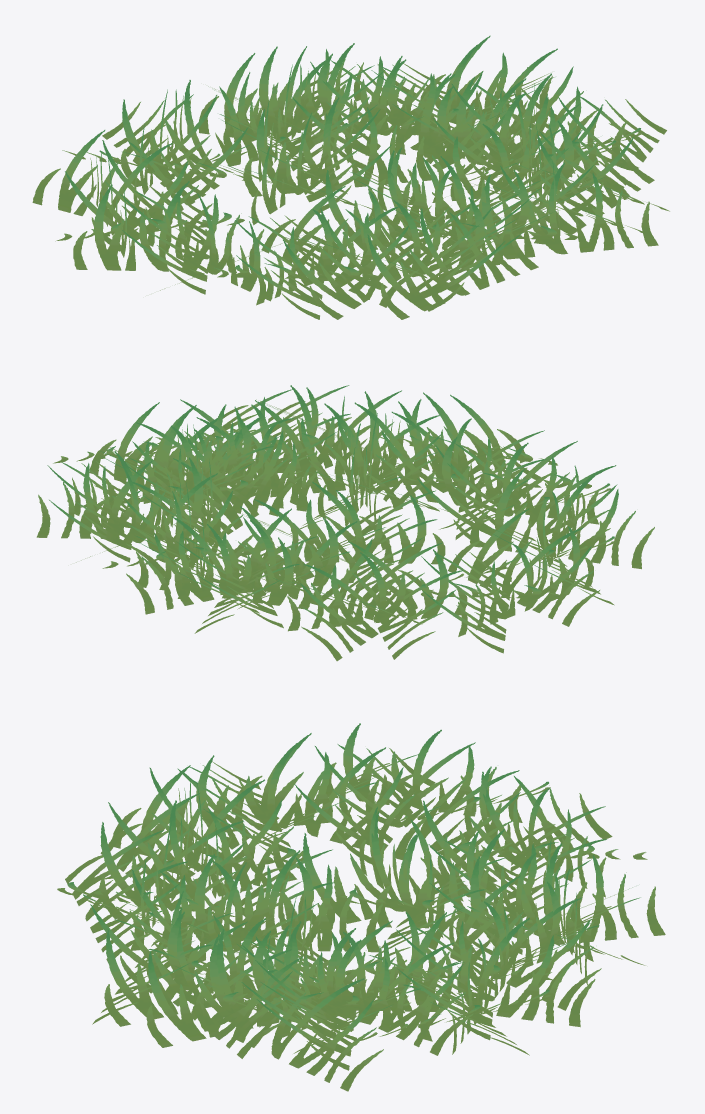
File: V_Grass13.fbx
3 views of the same model, one above another, from view 1: azimuth 30°, elevation 25°; view 2: azimuth 150°, elevation 25°; view 3: azimuth 270°, elevation 25° (orthographic). The views are drawn at different scales.
Parts seen in each view (by area): view 1: TW101_grass04; view 2: TW101_grass04; view 3: TW101_grass04.
Boxes of the visible parts, bbox=[...] form: TW101_grass04: bbox=[32, 35, 669, 319]; TW101_grass04: bbox=[36, 385, 654, 661]; TW101_grass04: bbox=[57, 723, 665, 1091].
Size of the model in its own units: 1.57 by 0.1852 by 1.32.
